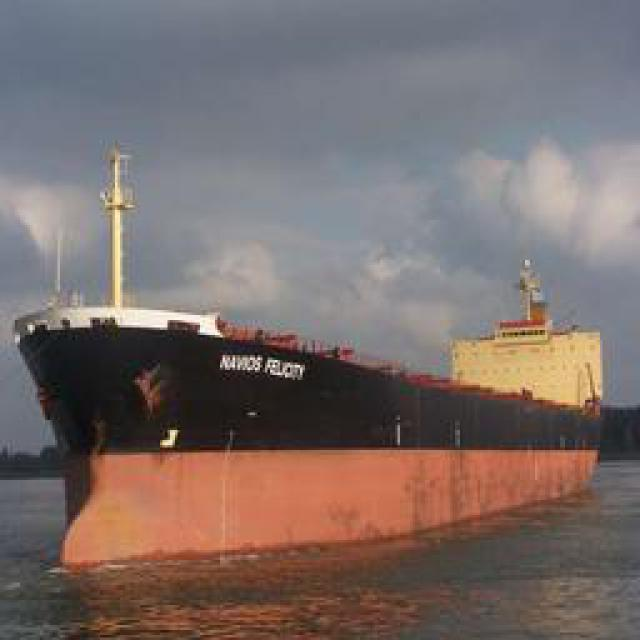Ship: (25, 268, 605, 563)
